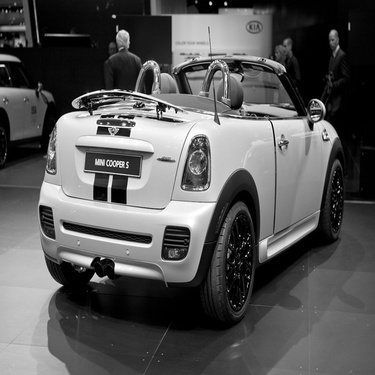car: (35, 40, 366, 315), (5, 45, 67, 155)
